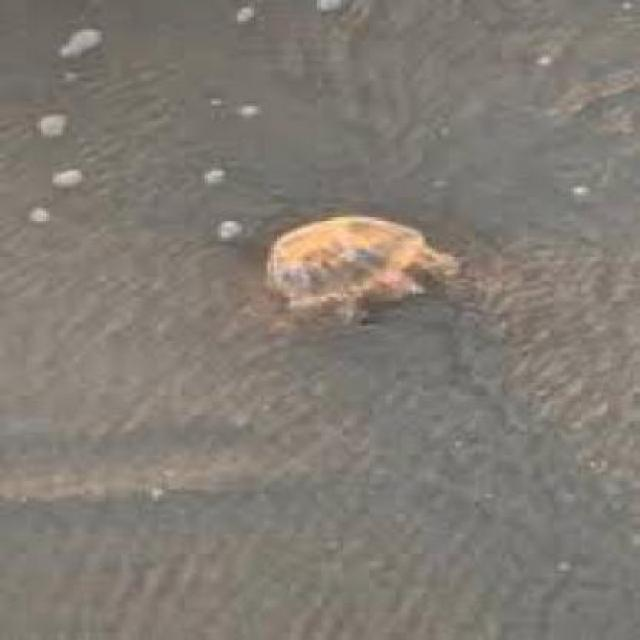Jellyfish: (254, 202, 476, 324)
